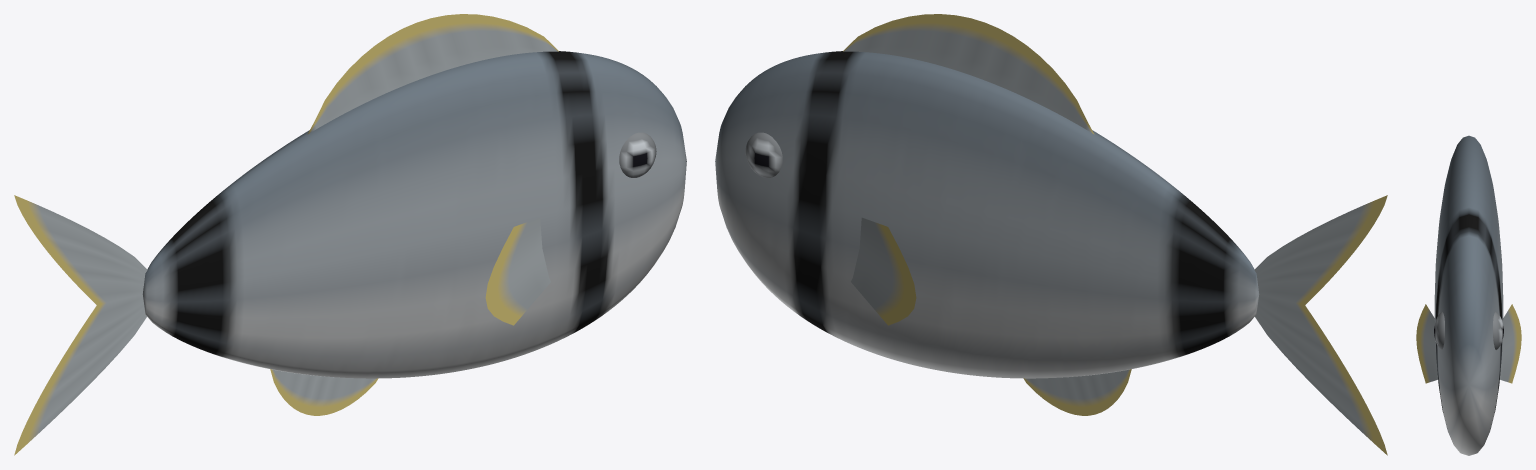
The model's file is karagoz.glb.
The picture shows the model from 3 angles, left to right: view 1: azimuth 30°, elevation 25°; view 2: azimuth 150°, elevation 25°; view 3: azimuth 270°, elevation 25°; orthographic projection. The views are drawn at different scales.
Visible parts, largest first — view 1: karagoz_govde, karagoz_kuyruk, karagoz_sirt, karagoz_gogusL, karagoz_anal_a, karagoz_gozL; view 2: karagoz_govde, karagoz_kuyruk, karagoz_sirt, karagoz_gogusR, karagoz_anal_a, karagoz_gozR; view 3: karagoz_govde, karagoz_gogusL, karagoz_gogusR, karagoz_gozL, karagoz_gozR.
Boxes of the visible parts, bbox=[...] form: karagoz_govde: bbox=[142, 51, 686, 378]; karagoz_kuyruk: bbox=[14, 195, 147, 455]; karagoz_sirt: bbox=[307, 14, 558, 134]; karagoz_gogusL: bbox=[485, 217, 550, 325]; karagoz_anal_a: bbox=[270, 369, 378, 415]; karagoz_gozL: bbox=[619, 132, 656, 177]; karagoz_govde: bbox=[715, 51, 1259, 378]; karagoz_kuyruk: bbox=[1254, 195, 1387, 455]; karagoz_sirt: bbox=[843, 14, 1094, 134]; karagoz_gogusR: bbox=[851, 217, 916, 325]; karagoz_anal_a: bbox=[1023, 369, 1131, 415]; karagoz_gozR: bbox=[745, 132, 782, 177]; karagoz_govde: bbox=[1434, 135, 1503, 455]; karagoz_gogusL: bbox=[1416, 304, 1437, 383]; karagoz_gogusR: bbox=[1500, 304, 1521, 383]; karagoz_gozL: bbox=[1434, 312, 1444, 349]; karagoz_gozR: bbox=[1493, 312, 1503, 349].
Size of the model in its own units: 1.03 by 0.5406 by 0.1722.
